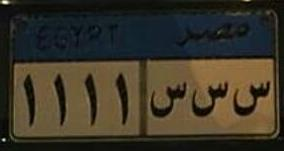1: (48, 69, 72, 127), (79, 68, 100, 128), (112, 71, 133, 128), (21, 72, 40, 130)
seen: (148, 76, 188, 125), (232, 78, 272, 120), (190, 79, 229, 122)
